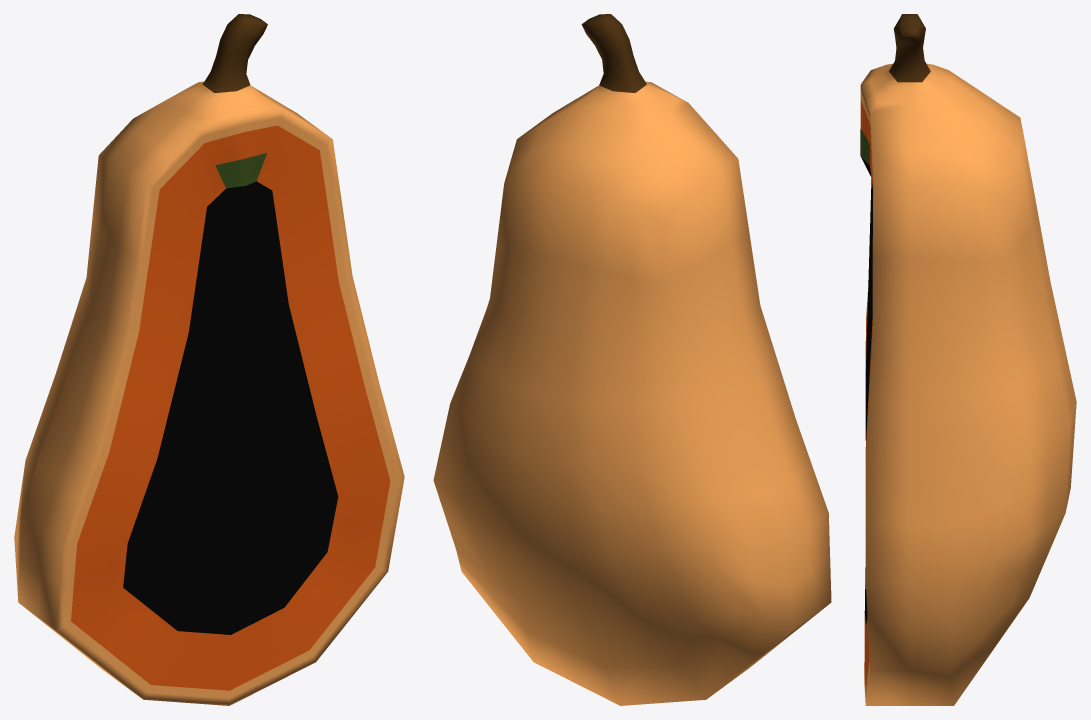
The model's file is mamaoCortado.fbx.
3 renders of one model, left to right at view 1: azimuth 30°, elevation 25°; view 2: azimuth 150°, elevation 25°; view 3: azimuth 270°, elevation 25°, orthographic. The views are drawn at different scales.
Visible parts, largest first — view 1: Mamao; view 2: Mamao; view 3: Mamao.
Part boxes in pixels (x1,y1,x2,y2): Mamao: (14,14,404,705); Mamao: (433,14,831,705); Mamao: (860,14,1076,705).
Bounding box in the file's own units: 225 × 412 × 117.
